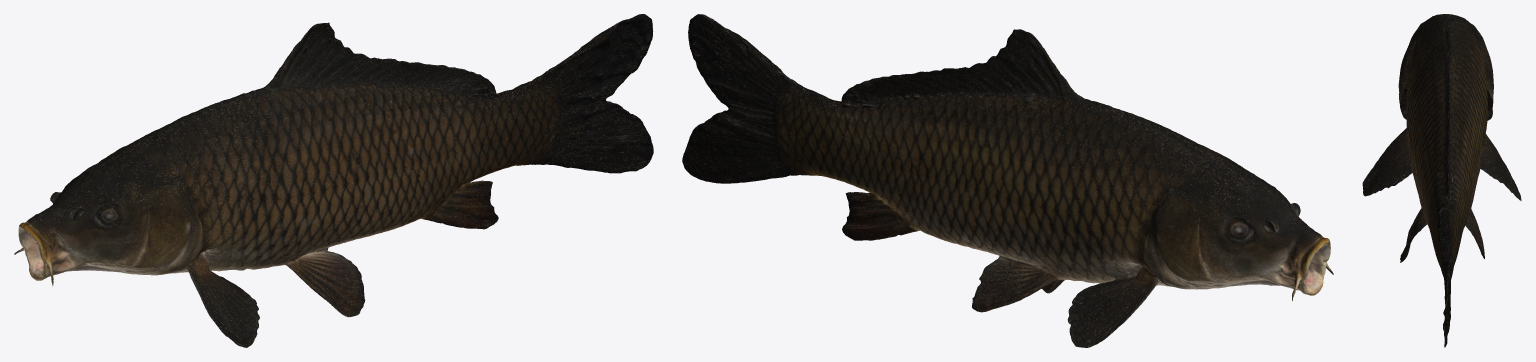
Rendered from carp.glb.
3 views of the same model, side by side, from view 1: azimuth 30°, elevation 25°; view 2: azimuth 150°, elevation 25°; view 3: azimuth 270°, elevation 25° (orthographic). The views are drawn at different scales.
Parts seen in each view (by area): view 1: Object_6; view 2: Object_6; view 3: Object_6.
Part boxes in pixels (x1,y1,x2,y2): Object_6: (14, 14, 653, 347); Object_6: (682, 14, 1333, 347); Object_6: (1362, 14, 1521, 347).
Size of the model in its own units: 1 by 0.4187 by 0.2589.
1 material, 1 textured.
